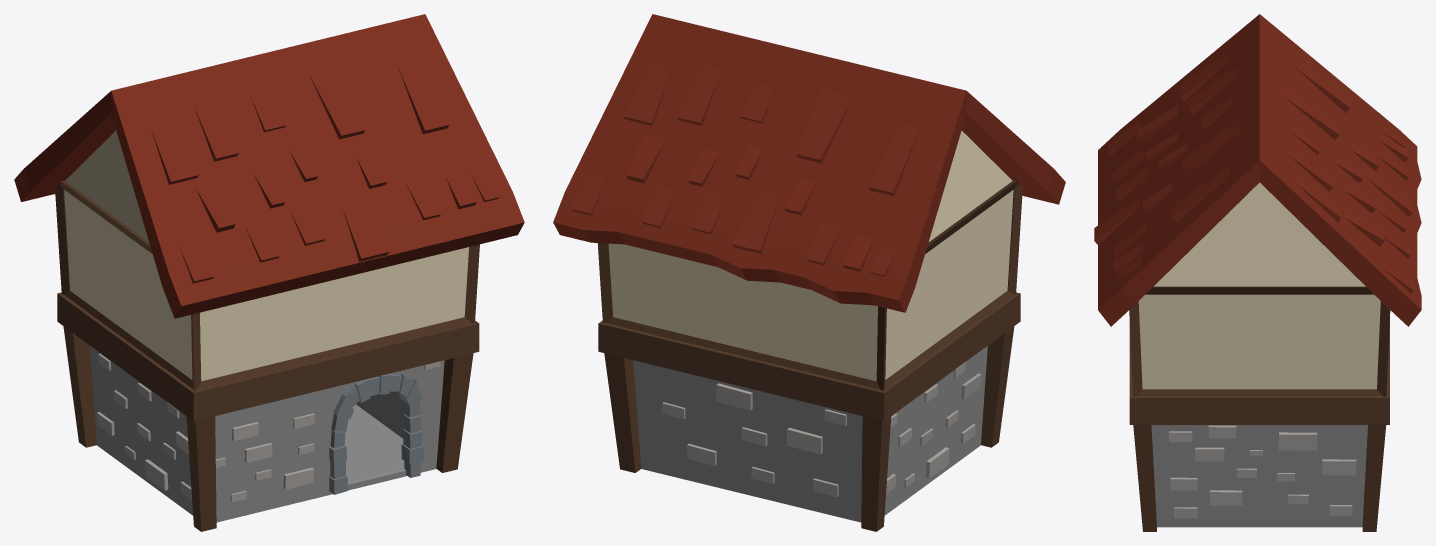
Rendered from house.fbx.
3 views of the same model, side by side, from view 1: azimuth 30°, elevation 25°; view 2: azimuth 150°, elevation 25°; view 3: azimuth 270°, elevation 25° (orthographic). The views are drawn at different scales.
Visible parts, largest first — view 1: Cube.048, Cube, Cube.001, Cube.081, Cube.006, Cube.068, Cube.069, Cube.065, Cube.073, Cube.066, Cube.077, Cube.072 (+7 smaller); view 2: Cube.048, Cube, Cube.001, Cube.081, Cube.052, Cube.053, Cube.057, Cube.049, Cube.050, Cube.061, Cube.056, Cube.058 (+8 smaller); view 3: Cube, Cube.048, Cube.001, Cube.081, Cube.068, Cube.052, Cube.069, Cube.053, Cube.065, Cube.039, Cube.057, Cube.049 (+11 smaller).
Boxes of the visible parts, box(x1,y1,x2,y2) form: Cube.048: box(14, 14, 524, 318); Cube: box(64, 130, 468, 522); Cube.001: box(57, 292, 479, 531); Cube.081: box(55, 181, 479, 390); Cube.006: box(329, 373, 423, 494); Cube.068: box(308, 63, 365, 139); Cube.069: box(397, 60, 449, 134); Cube.065: box(150, 121, 198, 184); Cube.073: box(342, 201, 389, 261); Cube.066: box(194, 100, 238, 161); Cube.077: box(195, 182, 235, 232); Cube.072: box(289, 202, 325, 245); Cube.048: box(553, 14, 1065, 312); Cube: box(608, 130, 1013, 522); Cube.001: box(598, 292, 1020, 531); Cube.081: box(597, 181, 1022, 390); Cube.052: box(796, 88, 853, 163); Cube.053: box(868, 123, 919, 196); Cube.057: box(731, 191, 779, 253); Cube.049: box(623, 64, 671, 125); Cube.050: box(677, 65, 721, 125); Cube.061: box(626, 133, 665, 183); Cube.056: box(690, 192, 726, 234); Cube.058: box(806, 221, 841, 265); Cube: box(1138, 182, 1380, 527); Cube.048: box(1098, 14, 1421, 326); Cube.001: box(1129, 321, 1389, 531); Cube.081: box(1129, 286, 1390, 396); Cube.068: box(1182, 118, 1239, 177); Cube.052: box(1283, 81, 1339, 139); Cube.069: box(1171, 167, 1228, 222); Cube.053: box(1293, 57, 1350, 112); Cube.065: box(1180, 52, 1228, 101); Cube.039: box(1278, 432, 1317, 450); Cube.057: box(1365, 168, 1412, 216); Cube.049: box(1294, 174, 1341, 222).
Bounding box in the file's own units: 686 × 771 × 593.
